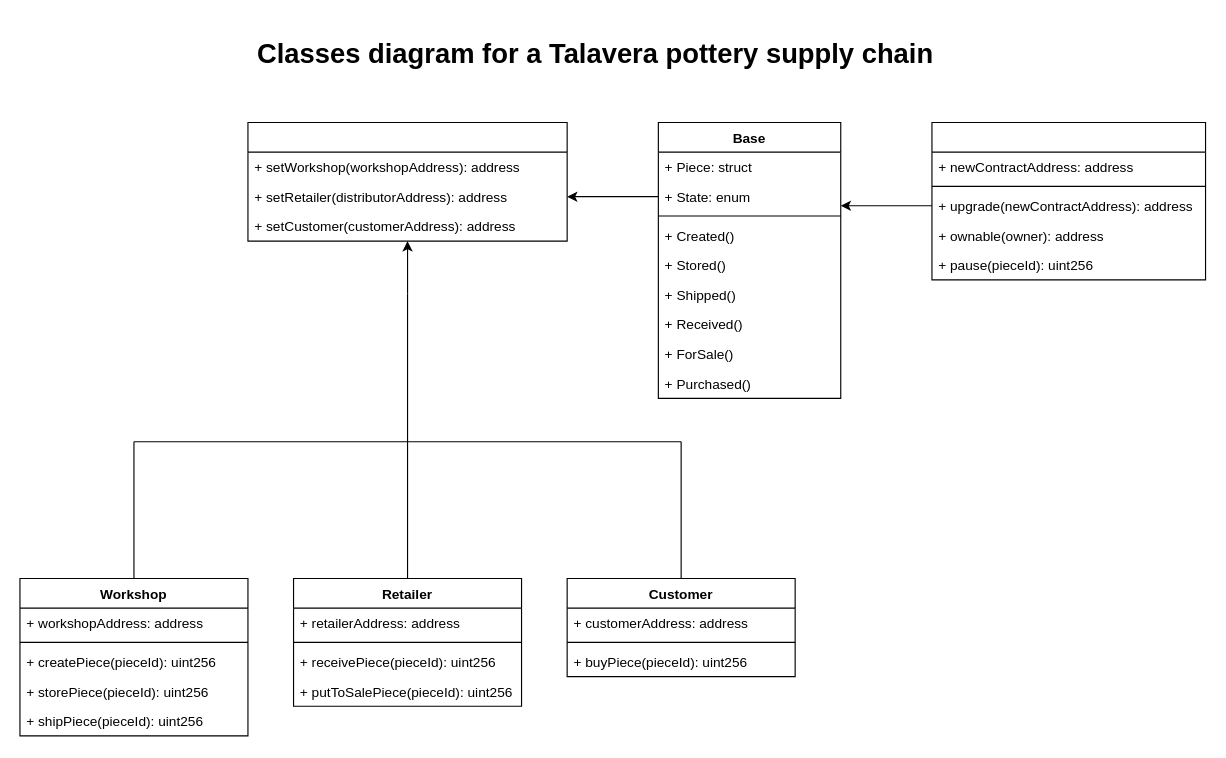
This 1226x758 diagram has some shape labels left out. Here are the shapes that lost their labels. From the top down, the box of each, then its label:
(247, 121, 567, 241): AccessControl
(931, 121, 1206, 280): Core
